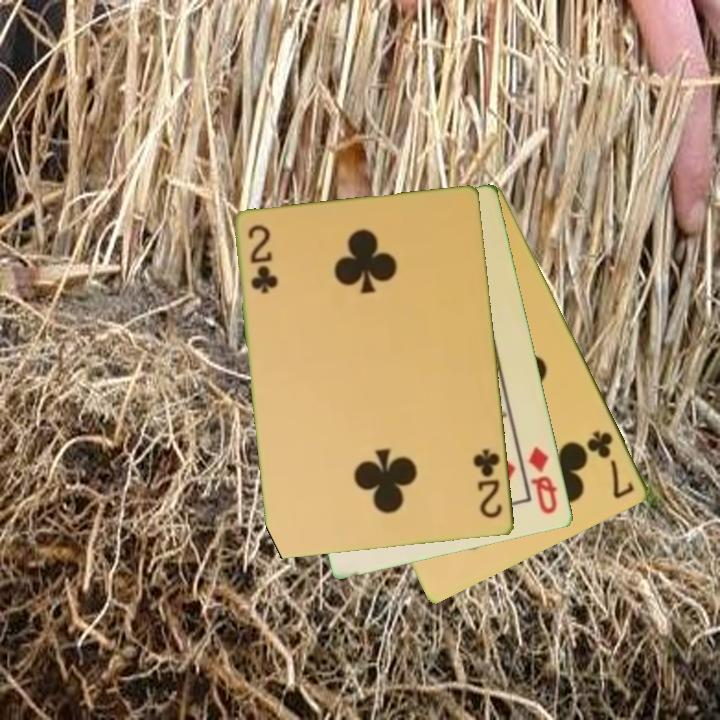2c: (470, 445, 506, 522), (245, 221, 279, 297)
7c: (584, 427, 638, 502)
Qd: (525, 443, 561, 518)
